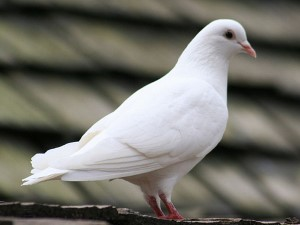pigeon: (20, 17, 259, 222)
